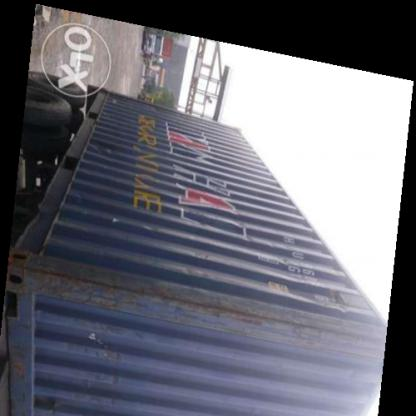Damage: (35, 257, 236, 327), (238, 302, 386, 344)
